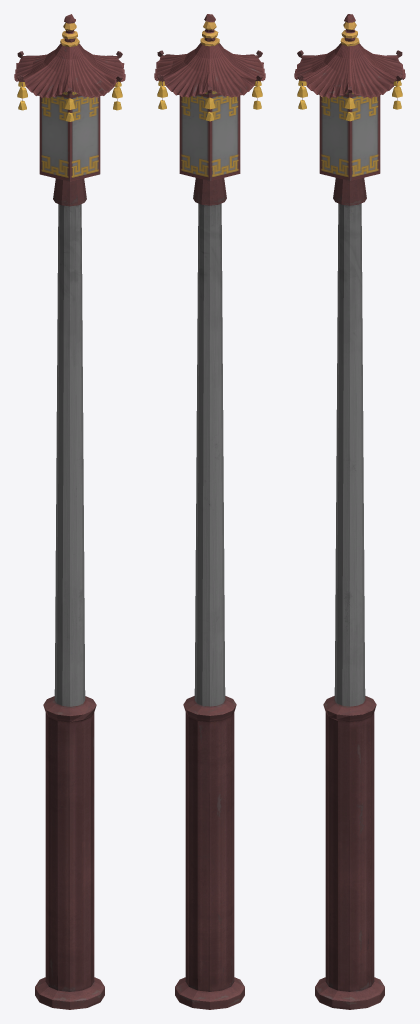
File: M_cp_yanjujie_ludeng_02.fbx
3 views of the same model, side by side, from view 1: azimuth 30°, elevation 25°; view 2: azimuth 150°, elevation 25°; view 3: azimuth 330°, elevation 25° (orthographic).
Parts seen in each view (by area): view 1: M_cp_yanjujie_ludeng_02.mo; view 2: M_cp_yanjujie_ludeng_02.mo; view 3: M_cp_yanjujie_ludeng_02.mo.
Boxes of the visible parts, x1=… form: M_cp_yanjujie_ludeng_02.mo: x1=14, y1=14, x2=125, y2=1009; M_cp_yanjujie_ludeng_02.mo: x1=154, y1=14, x2=265, y2=1009; M_cp_yanjujie_ludeng_02.mo: x1=294, y1=14, x2=405, y2=1009.
Bounding box in the file's own units: 71.39 × 635 × 65.55.
